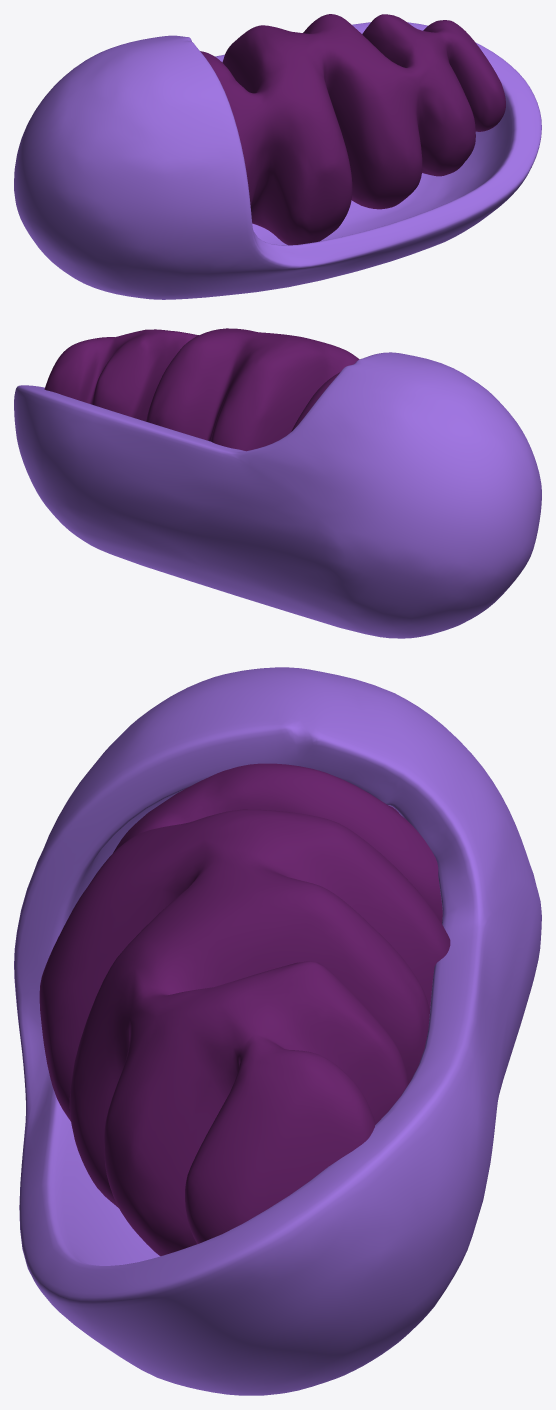
Rendered from mitochondria.glb.
3 renders of one model, top to bottom at view 1: azimuth 30°, elevation 25°; view 2: azimuth 150°, elevation 25°; view 3: azimuth 270°, elevation 25°, orthographic. The views are drawn at different scales.
Parts seen in each view (by area): view 1: pasted__polySurface1146_8, pasted__polySurface1145_7; view 2: pasted__polySurface1146_8, pasted__polySurface1145_7; view 3: pasted__polySurface1146_8, pasted__polySurface1145_7.
Part boxes in pixels (x1=…): pasted__polySurface1146_8: x1=14, y1=22, x2=541, y2=299; pasted__polySurface1145_7: x1=200, y1=14, x2=505, y2=245; pasted__polySurface1146_8: x1=14, y1=352, x2=541, y2=638; pasted__polySurface1145_7: x1=44, y1=328, x2=359, y2=451; pasted__polySurface1146_8: x1=14, y1=667, x2=541, y2=1395; pasted__polySurface1145_7: x1=39, y1=763, x2=450, y2=1256.
Bounding box in the file's own units: 88.06 × 42.16 × 42.84.
